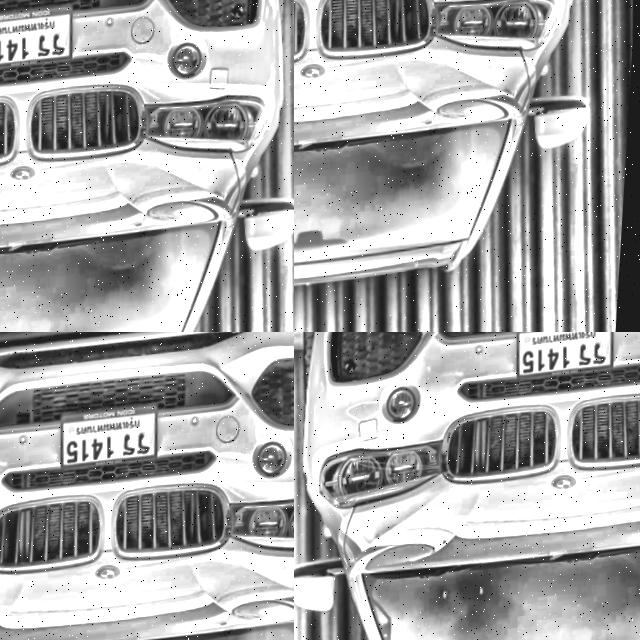license-plate: (511, 332, 619, 383), (0, 29, 70, 97), (515, 308, 624, 332)
